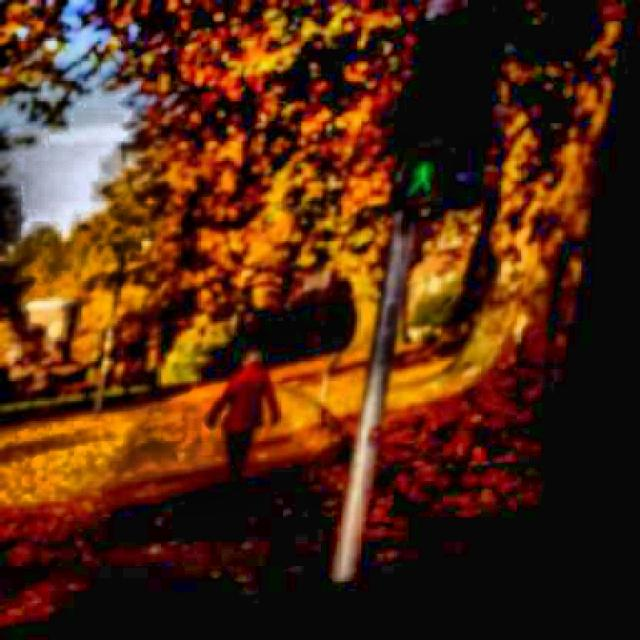semaforo pedestre: (340, 0, 534, 275)
